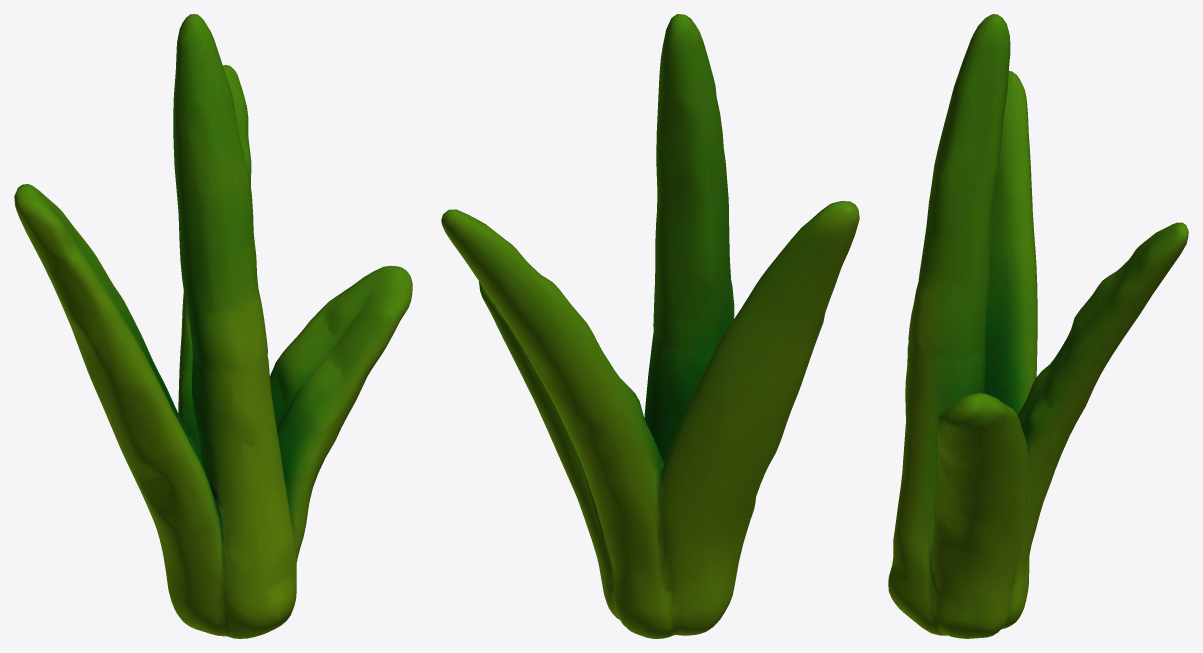
File: iris_s2.glb
3 views of the same model, side by side, from view 1: azimuth 30°, elevation 25°; view 2: azimuth 150°, elevation 25°; view 3: azimuth 270°, elevation 25° (orthographic). The views are drawn at different scales.
Size of the model in its own units: 0.6537 by 1 by 0.4559.
1 material, 1 textured.
